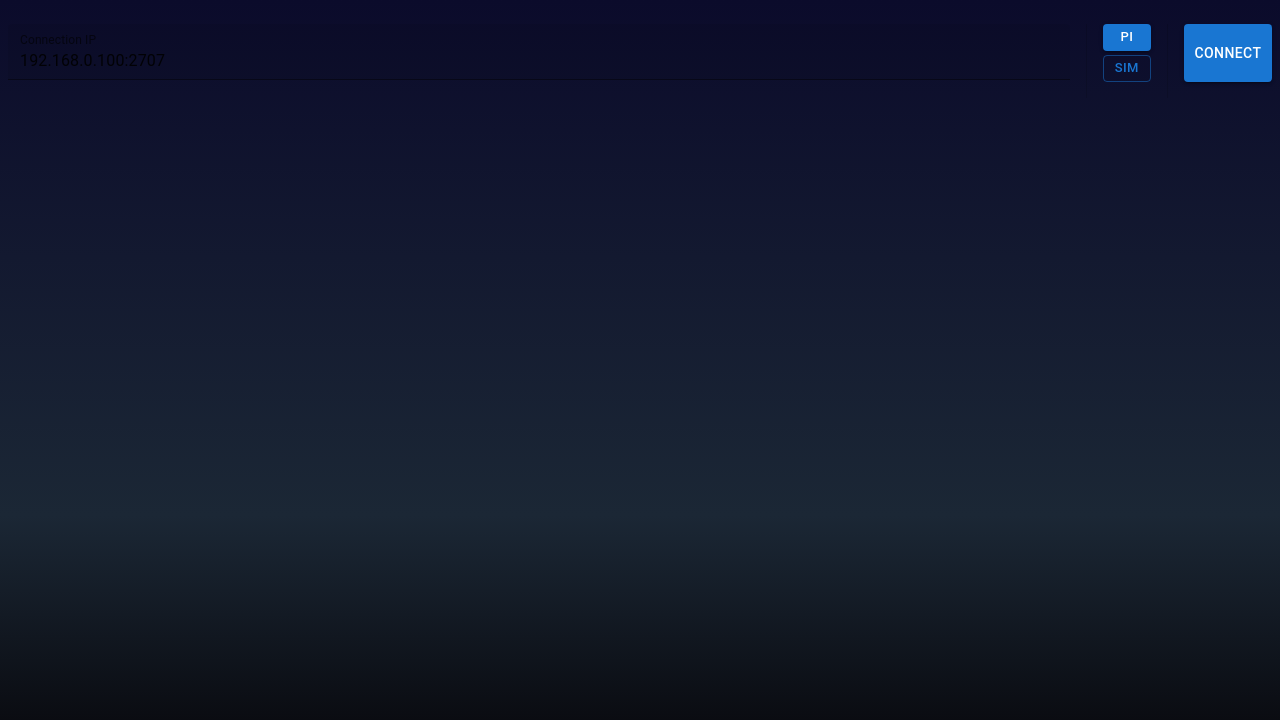
Test case: ConnectBar › Sim fills in the sim address without connecting
Click the button "Sim".
click(1127, 68)  # box [1103,55,1151,82]
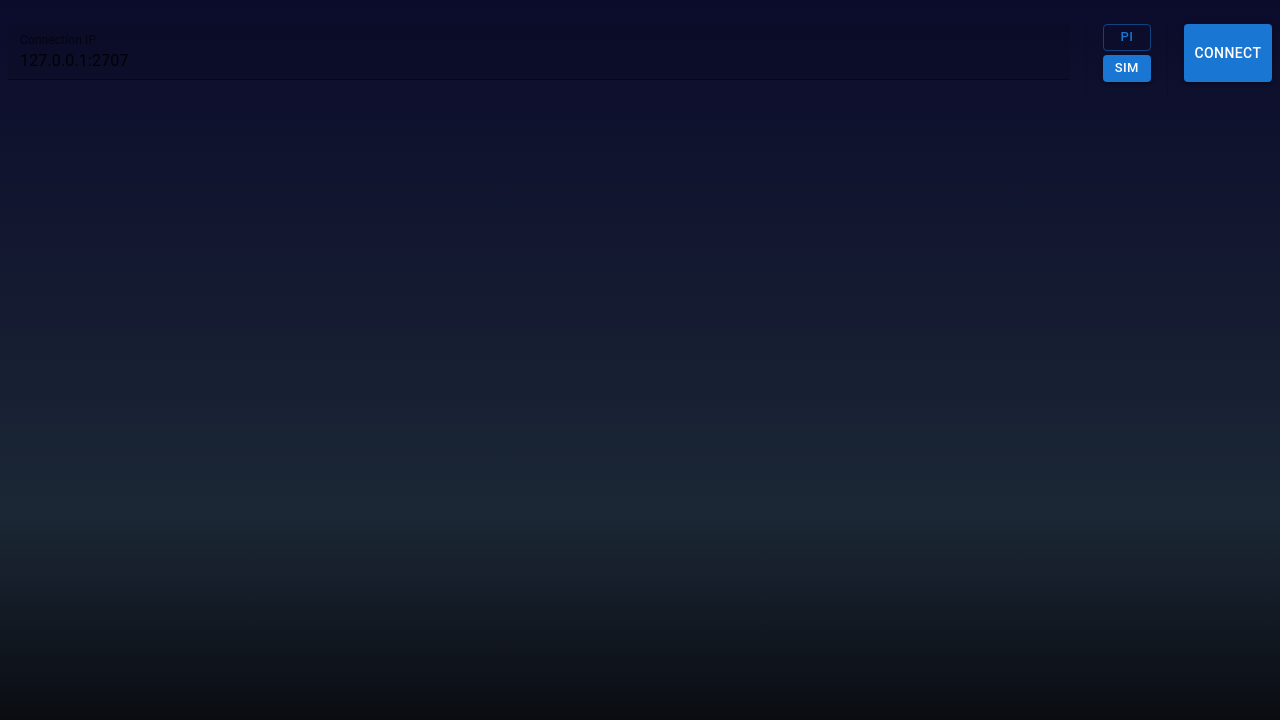
Now the field labelled "Connection IP" holds "127.0.0.1:2707", box [8,24,1070,80]
